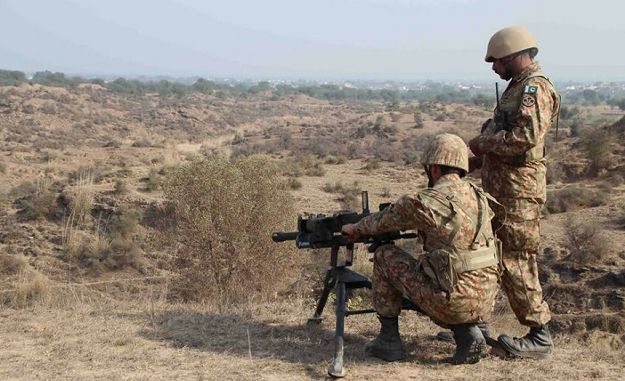uniform: (471, 29, 563, 321), (374, 125, 484, 345)
